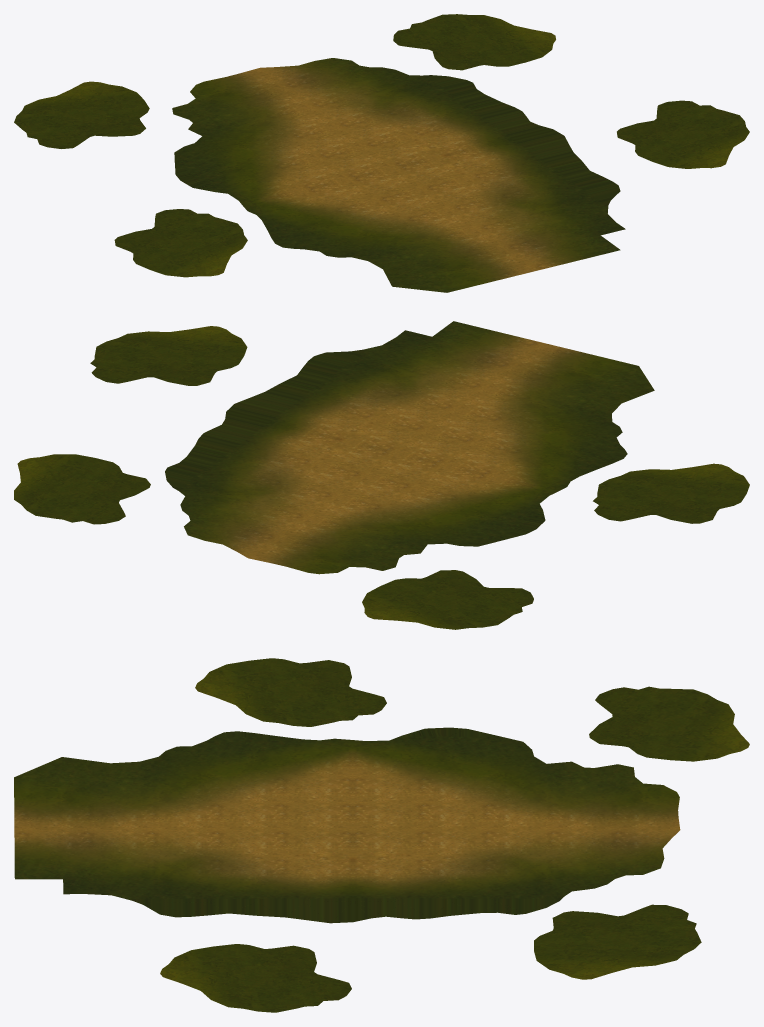
Rendered from lumina_dixing_zhanyi02_03.fbx.
3 renders of one model, top to bottom at view 1: azimuth 30°, elevation 25°; view 2: azimuth 150°, elevation 25°; view 3: azimuth 270°, elevation 25°, orthographic. The views are drawn at different scales.
Parts seen in each view (by area): view 1: polymsh; view 2: polymsh; view 3: polymsh.
Boxes of the visible parts, x1,y1,x2,y2 form: polymsh: [14, 14, 749, 292]; polymsh: [14, 321, 749, 629]; polymsh: [14, 658, 749, 1012].
Size of the model in its own units: 0.4674 by 7.62e-05 by 0.4099.
